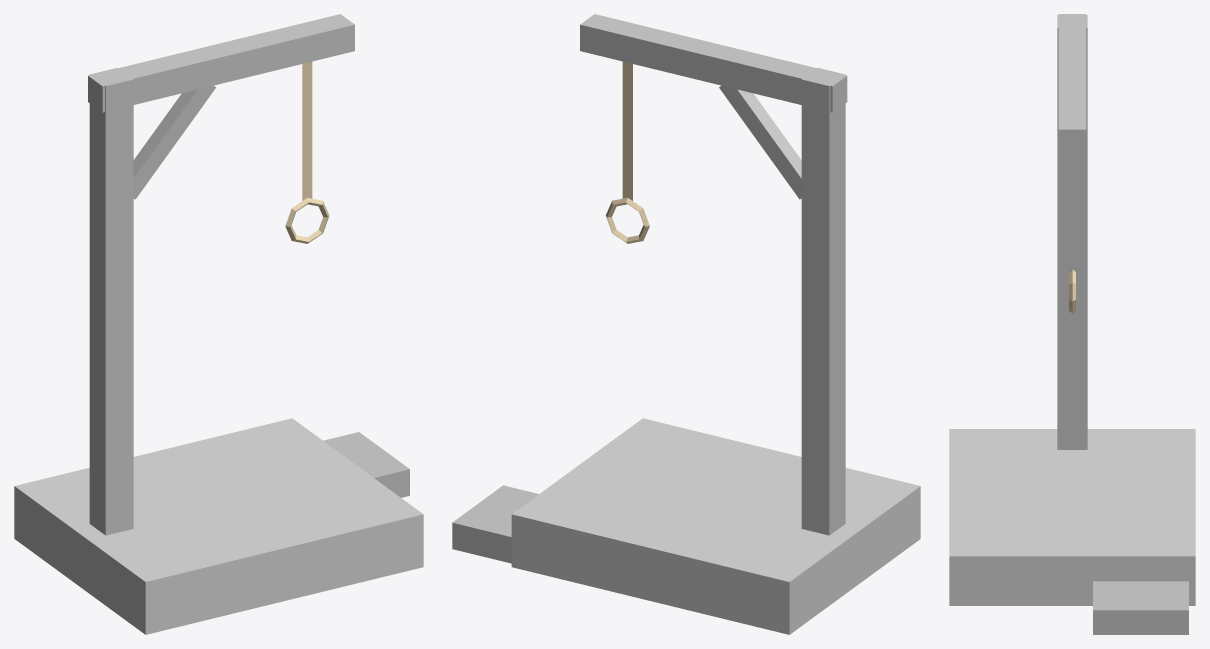
Rendered from gallows.glb.
3 renders of one model, left to right at view 1: azimuth 30°, elevation 25°; view 2: azimuth 150°, elevation 25°; view 3: azimuth 270°, elevation 25°, orthographic. The views are drawn at different scales.
Visible parts, largest first — view 1: Gallows; view 2: Gallows; view 3: Gallows.
Boxes of the visible parts, bbox=[...] form: Gallows: bbox=[14, 14, 423, 634]; Gallows: bbox=[452, 14, 920, 634]; Gallows: bbox=[949, 14, 1195, 634].
Size of the model in its own units: 2.7 by 3.8 by 1.8.
